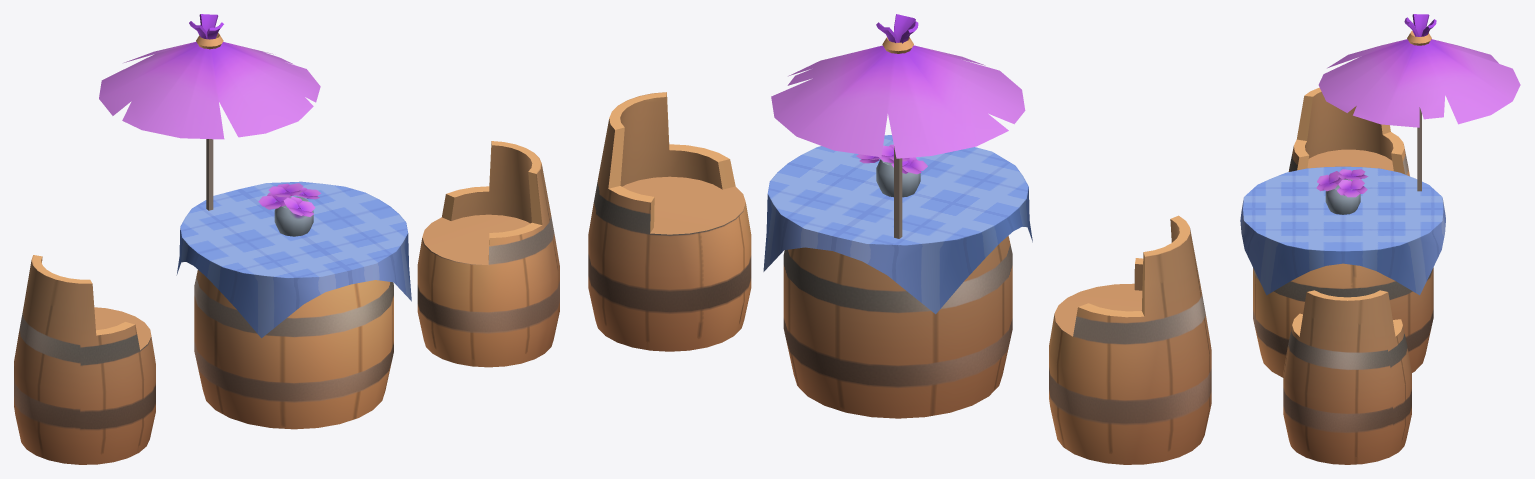
The model's file is table_4_5.fbx.
3 renders of one model, left to right at view 1: azimuth 30°, elevation 25°; view 2: azimuth 150°, elevation 25°; view 3: azimuth 270°, elevation 25°, orthographic. The views are drawn at different scales.
Visible parts, largest first — view 1: Cylinder.014, Cylinder.003, Cylinder.015, Plane.001, Circle, Cylinder.012; view 2: Cylinder.014, Cylinder.003, Cylinder.015, Plane.001, Circle, Cylinder.012; view 3: Cylinder.014, Plane.001, Circle, Cylinder.003, Cylinder.015, Cylinder.012, Circle.013, Circle.014.
Boxes of the visible parts, bbox=[...] form: Cylinder.014: bbox=[417, 141, 559, 367]; Cylinder.003: bbox=[194, 270, 393, 429]; Cylinder.015: bbox=[14, 255, 155, 464]; Plane.001: bbox=[176, 181, 411, 338]; Circle: bbox=[99, 14, 320, 210]; Cylinder.012: bbox=[274, 196, 313, 236]; Cylinder.014: bbox=[588, 92, 751, 351]; Cylinder.003: bbox=[783, 236, 1012, 418]; Cylinder.015: bbox=[1049, 215, 1211, 464]; Plane.001: bbox=[763, 135, 1032, 314]; Circle: bbox=[771, 14, 1025, 238]; Cylinder.012: bbox=[876, 159, 920, 197]; Cylinder.014: bbox=[1283, 290, 1411, 464]; Plane.001: bbox=[1240, 166, 1445, 295]; Circle: bbox=[1318, 14, 1520, 191]; Cylinder.003: bbox=[1253, 263, 1433, 377]; Cylinder.015: bbox=[1288, 87, 1409, 176]; Cylinder.012: bbox=[1325, 179, 1360, 214]; Circle.013: bbox=[1337, 179, 1367, 197]; Circle.014: bbox=[1316, 171, 1343, 191].
Bounding box in the file's own units: 6.65 × 4.24 × 3.4.
